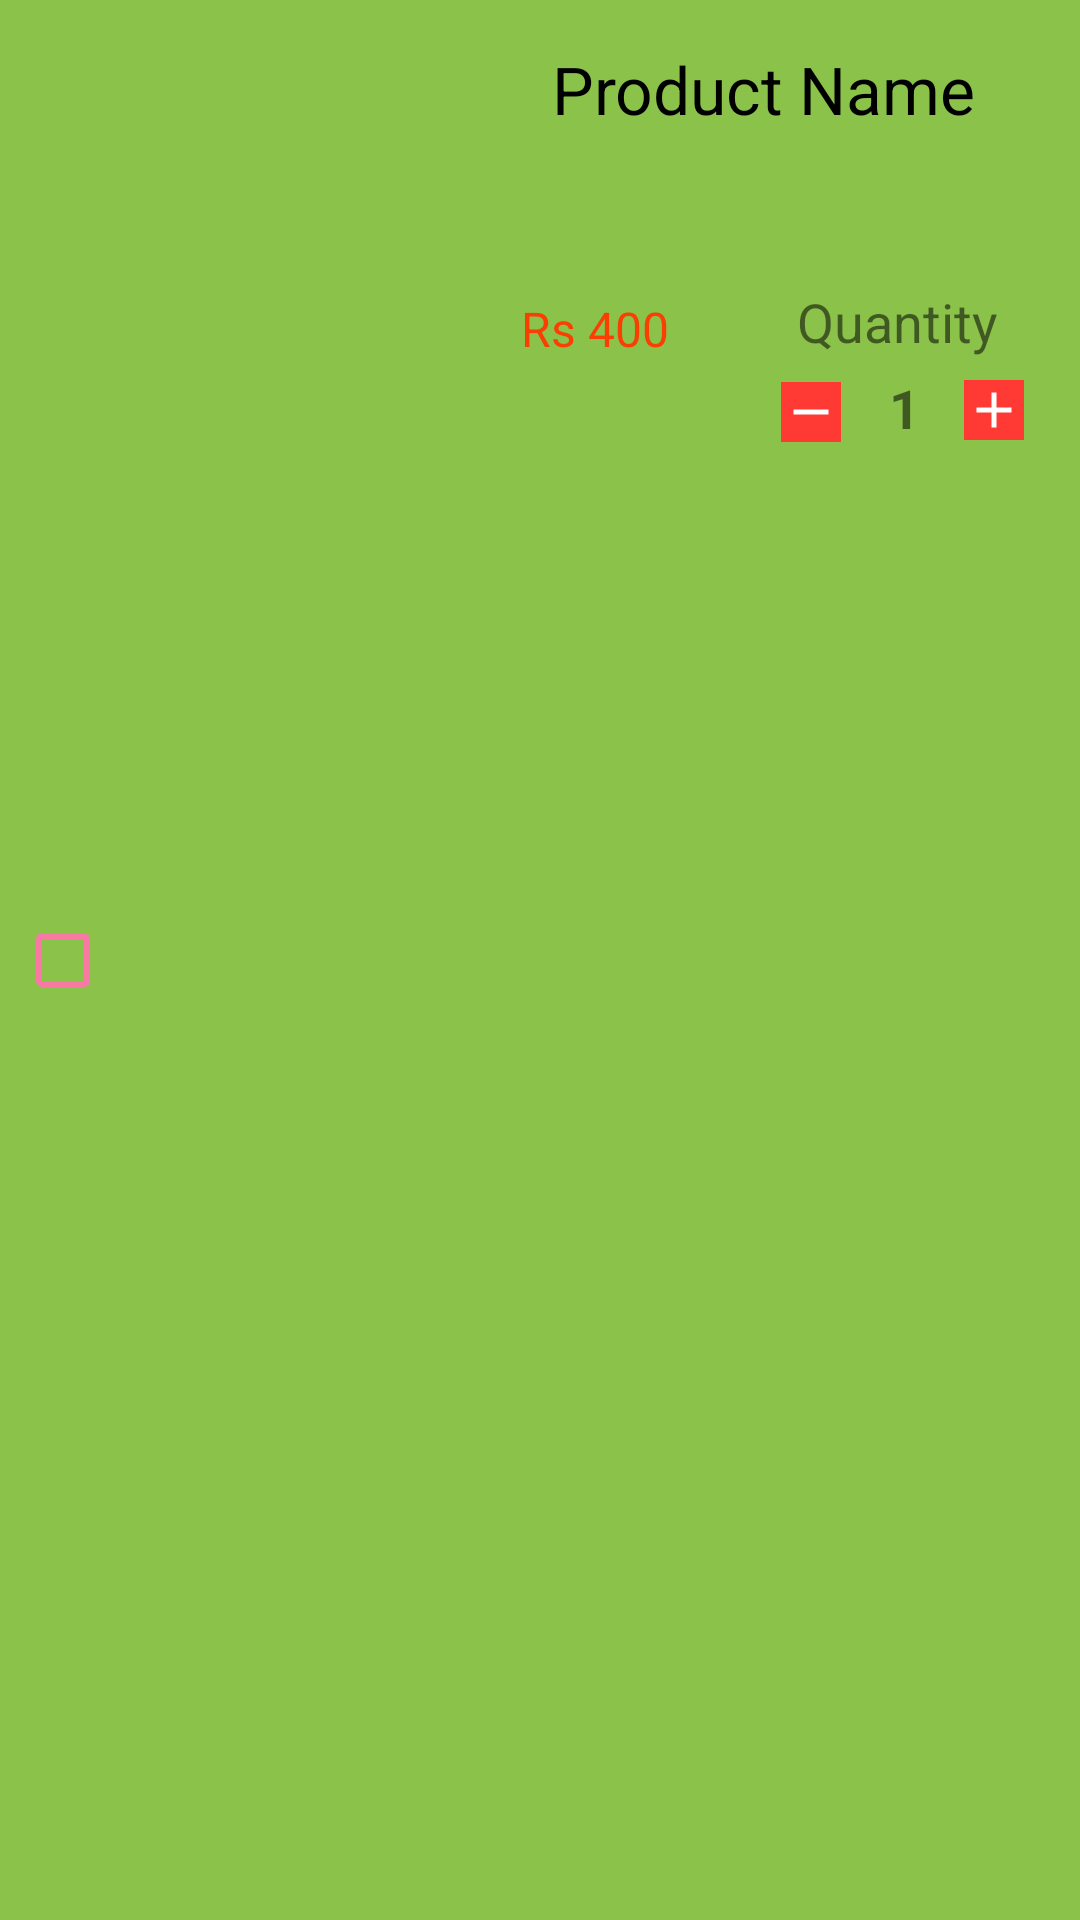

Point at icon controls on the screen. Image size 1080x1920, points as (x,y).
add: (994,410)
remove: (811,412)
